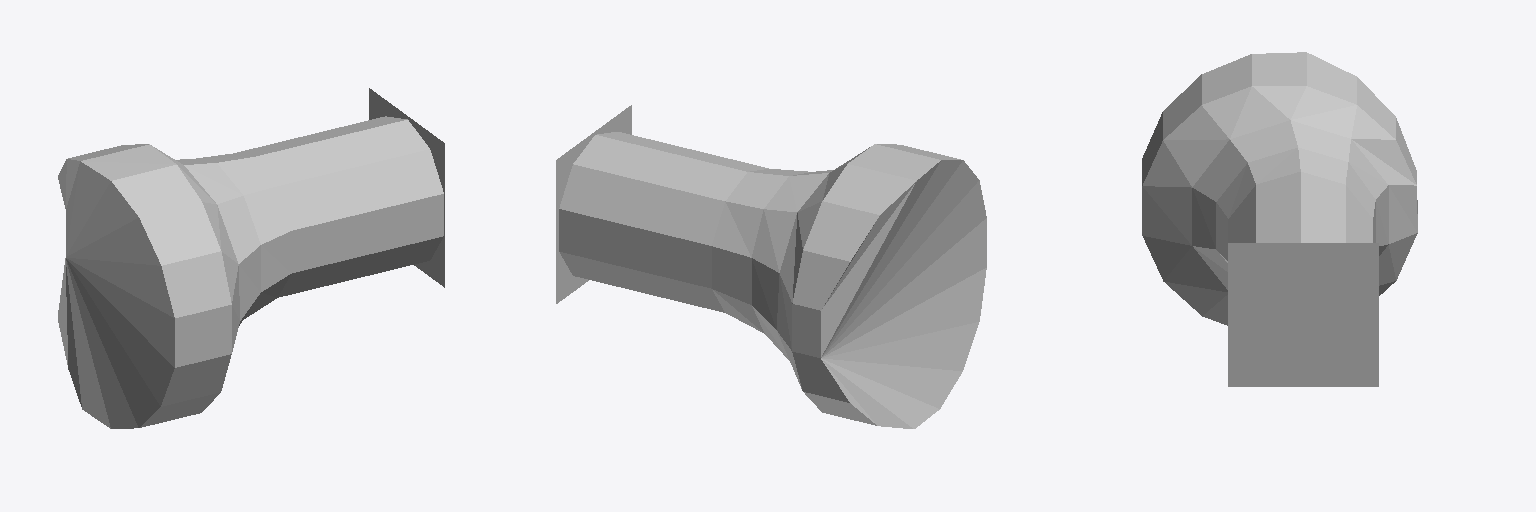
File: mask.acii.OBJ
3 views of the same model, side by side, from view 1: azimuth 30°, elevation 25°; view 2: azimuth 150°, elevation 25°; view 3: azimuth 270°, elevation 25° (orthographic).
Bounding box in the file's own units: 0.8974 × 0.6584 × 0.6597.